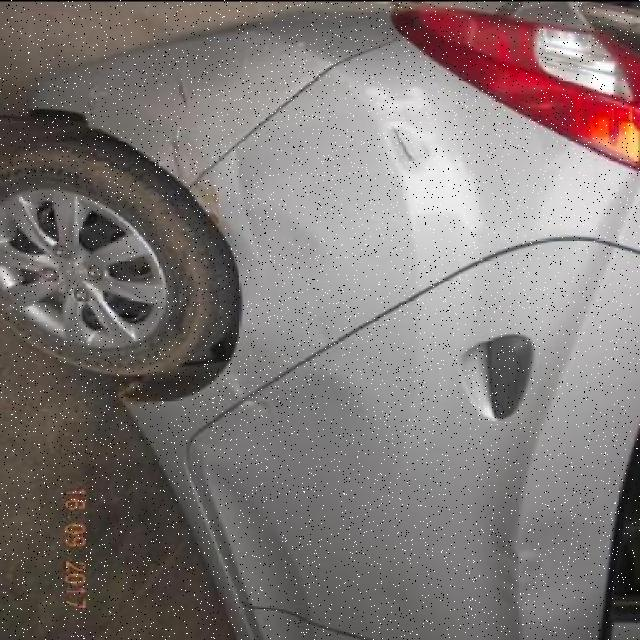damage: (201, 368, 353, 450), (495, 520, 572, 609), (190, 169, 222, 226), (391, 126, 419, 166), (166, 122, 183, 183), (176, 74, 194, 107)
